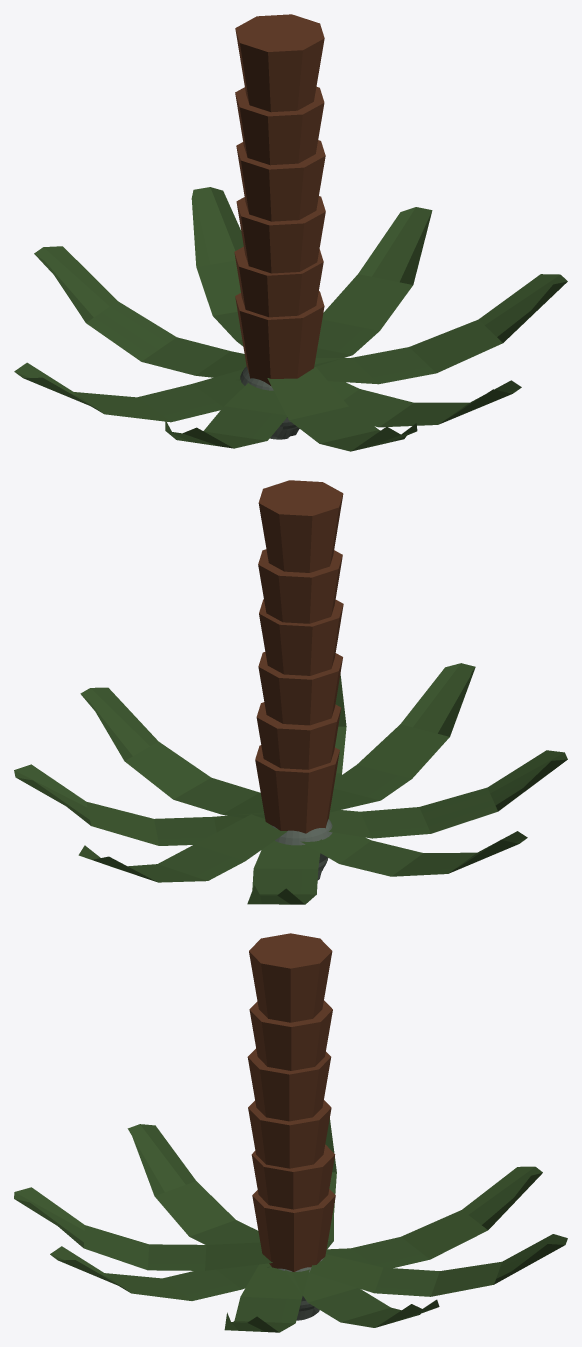
The model's file is Fancytree1.fbx.
3 views of the same model, one above another, from view 1: azimuth 30°, elevation 25°; view 2: azimuth 150°, elevation 25°; view 3: azimuth 270°, elevation 25° (orthographic). The views are drawn at different scales.
Visible parts, largest first — view 1: Cube.001, Cube, Cube.002; view 2: Cube.001, Cube, Cube.002; view 3: Cube.001, Cube.
Part boxes in pixels (x1,y1,x2,y2): Cube.001: [14, 187, 567, 451]; Cube: [234, 14, 325, 385]; Cube.002: [240, 366, 299, 439]; Cube.001: [14, 663, 567, 904]; Cube: [255, 480, 343, 833]; Cube.002: [272, 819, 332, 880]; Cube.001: [14, 1118, 567, 1332]; Cube: [247, 933, 335, 1271].
Size of the model in its own units: 1351 by 1035 by 1422.
